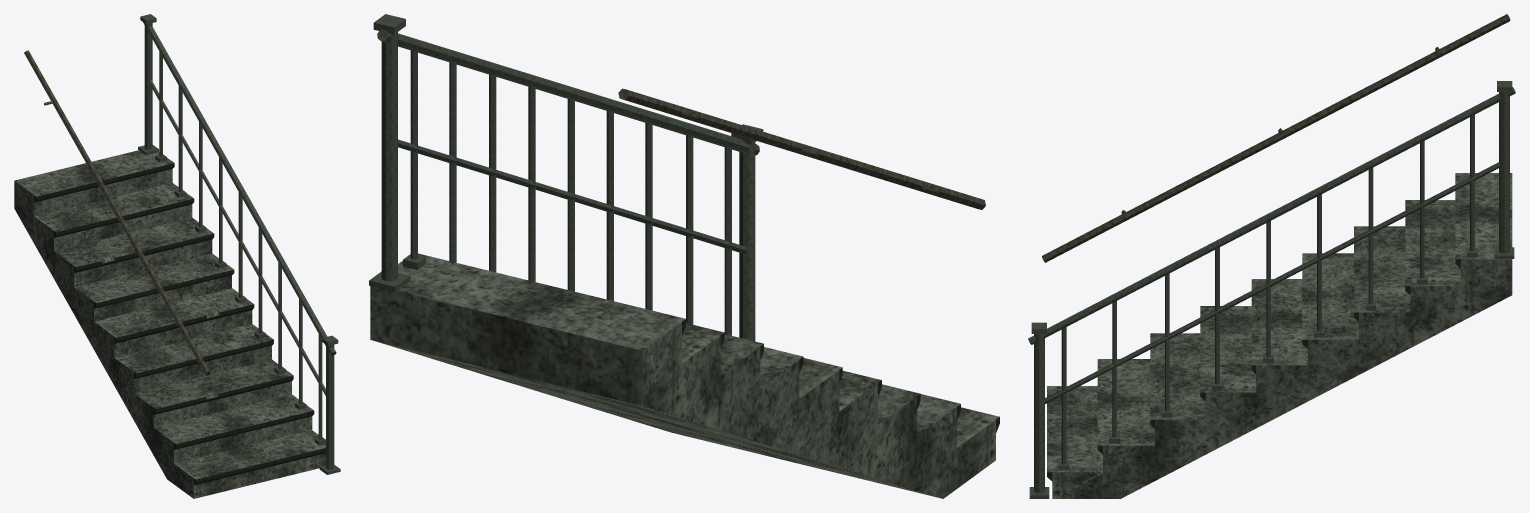
The model's file is SM_Stair_Flight.fbx.
The picture shows the model from 3 angles, left to right: view 1: azimuth 30°, elevation 25°; view 2: azimuth 150°, elevation 25°; view 3: azimuth 270°, elevation 25°; orthographic projection. The views are drawn at different scales.
Parts seen in each view (by area): view 1: SM_Stair_Flight; view 2: SM_Stair_Flight; view 3: SM_Stair_Flight.
Part boxes in pixels (left/top/right/bottom): SM_Stair_Flight: left=14, top=14, right=340, bottom=498; SM_Stair_Flight: left=369, top=14, right=999, bottom=498; SM_Stair_Flight: left=1028, top=14, right=1515, bottom=498.
Bounding box in the file's own units: 1.2 × 2.66 × 2.86.
